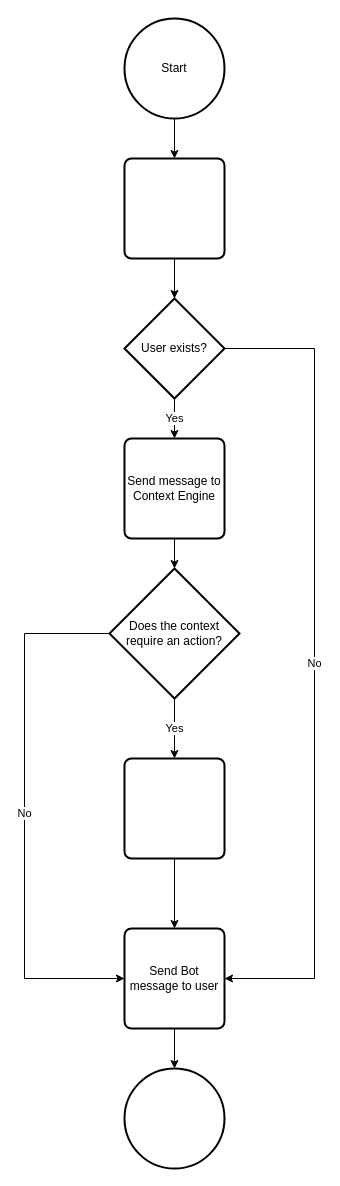
Some shapes in this 340 by 1186 pixel diagram are drawn without their labels. Each missing label, with the centre of its shape:
End: [174,1118]
Send message to Activity Manager: [174,808]
User message: [174,208]
